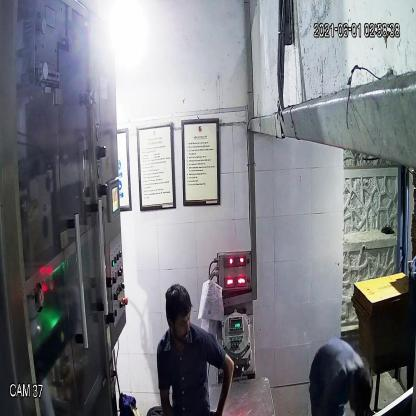no_goggles: (166, 313, 193, 332)
